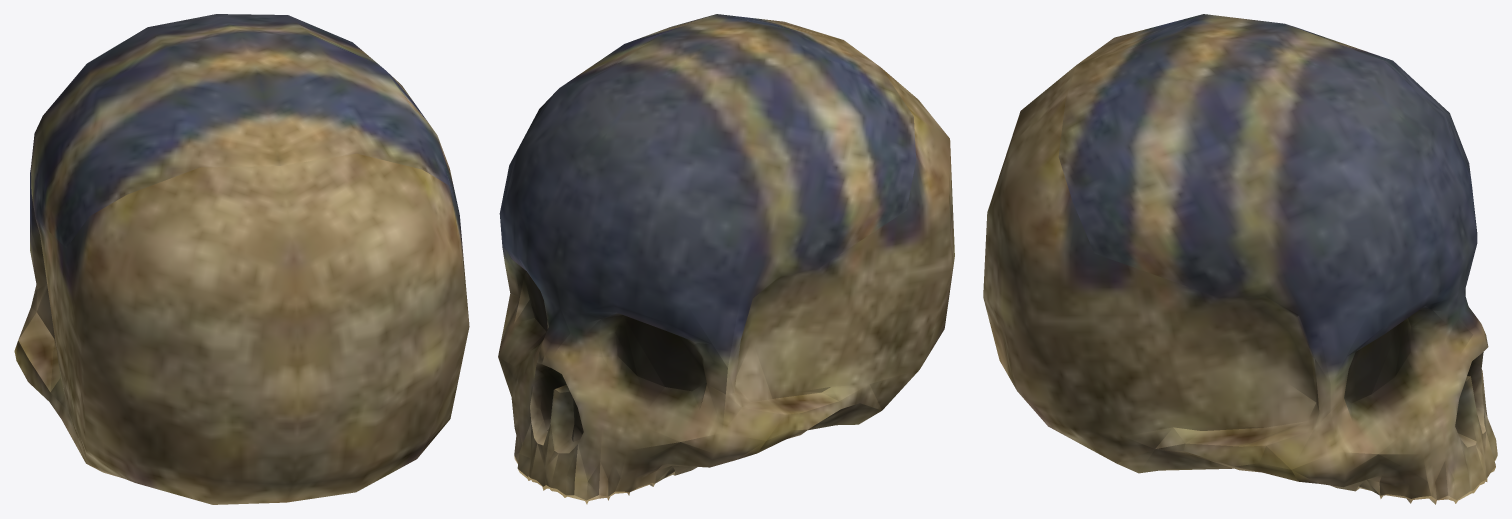
Rendered from o_mdl_env_propSkullPaintB-transformed.glb.
3 renders of one model, left to right at view 1: azimuth 30°, elevation 25°; view 2: azimuth 150°, elevation 25°; view 3: azimuth 270°, elevation 25°, orthographic. The views are drawn at different scales.
Parts seen in each view (by area): view 1: default; view 2: default; view 3: default.
Part boxes in pixels (x1,y1,x2,y2): default: (14, 14, 469, 504); default: (498, 14, 954, 504); default: (983, 14, 1497, 504).
Size of the model in its own units: 0.1916 by 0.189 by 0.2148.
1 material, 1 textured.
